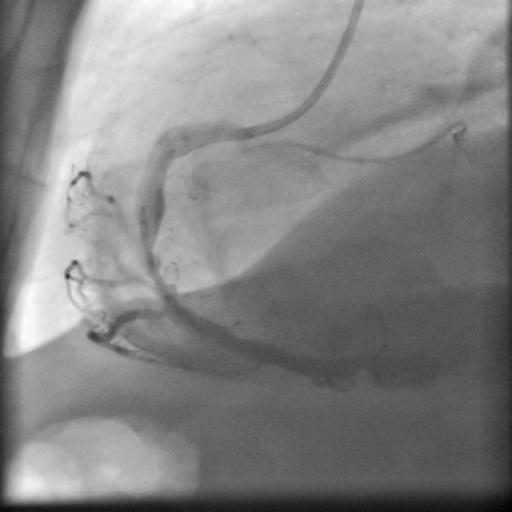Stenosis: (138, 245, 179, 299)
